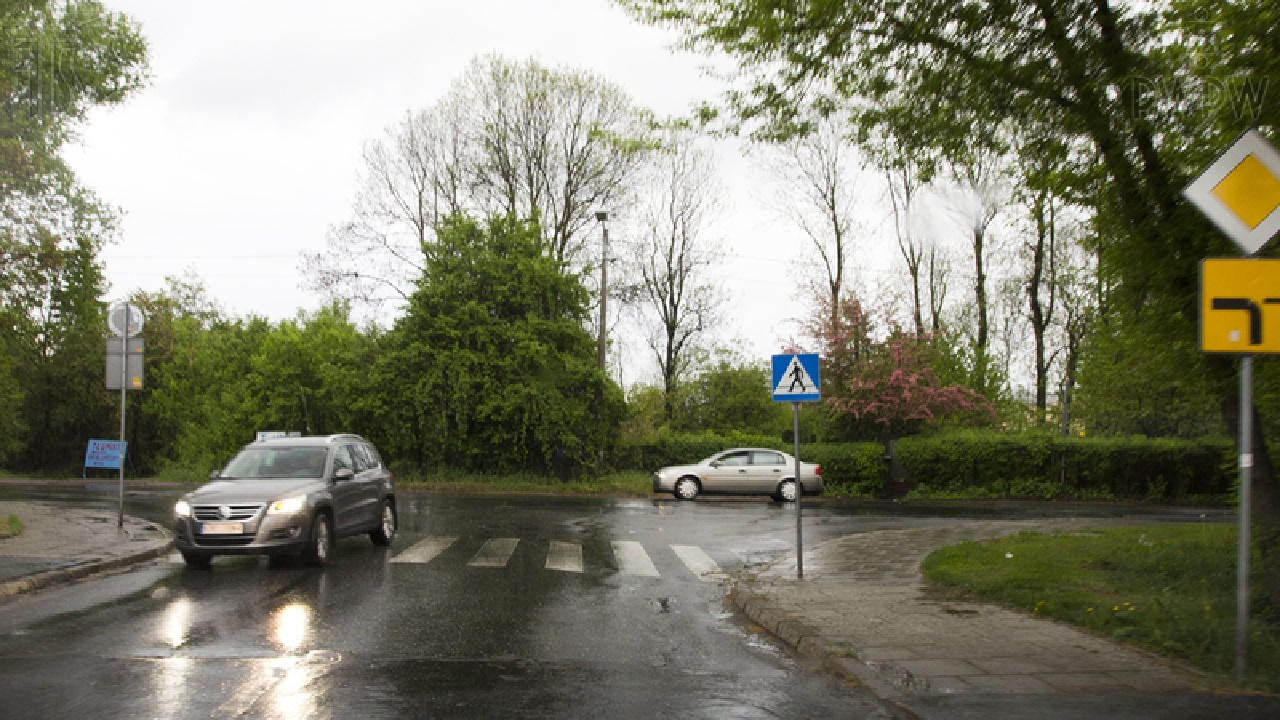D1: (1181, 128, 1280, 257)
D6: (771, 354, 820, 400)
